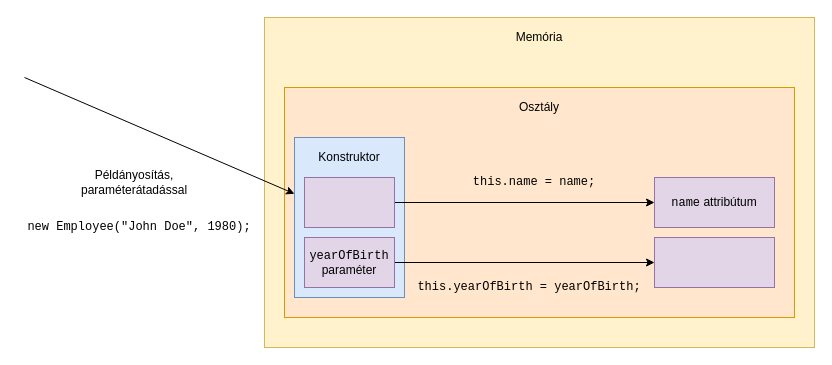
Some shapes in this 832 by 365 pixel diagram are drawn without their labels. The centre of each missing label's shape, as x and y in pixels:
name paraméter: the point at 349,202
yearOfBirth attribútum: the point at 714,262
